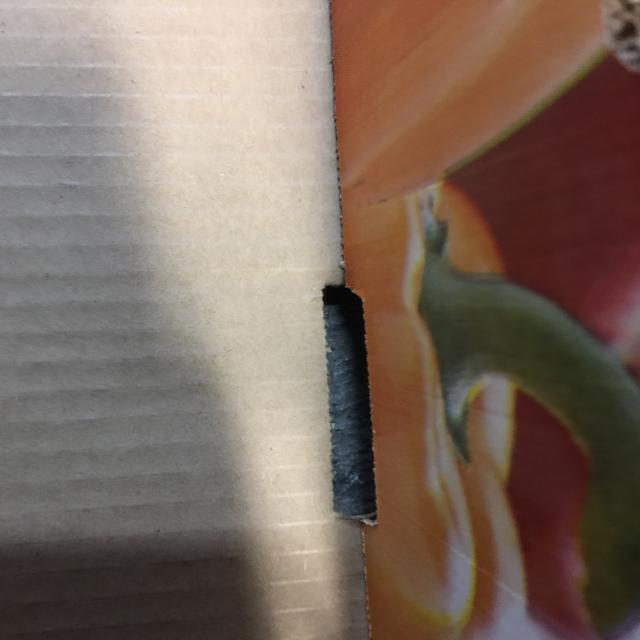cardboard: (1, 0, 369, 639), (329, 1, 639, 639)
